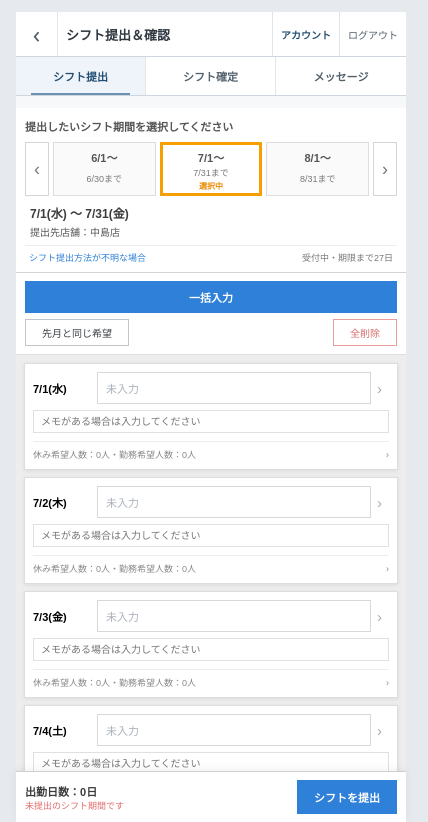
Scenario: スタッフ画面: メッセージタブから店長へ送信できる
Click the button "メッセージ". click: {"x": 341, "y": 76}
box: [276, 57, 406, 95]
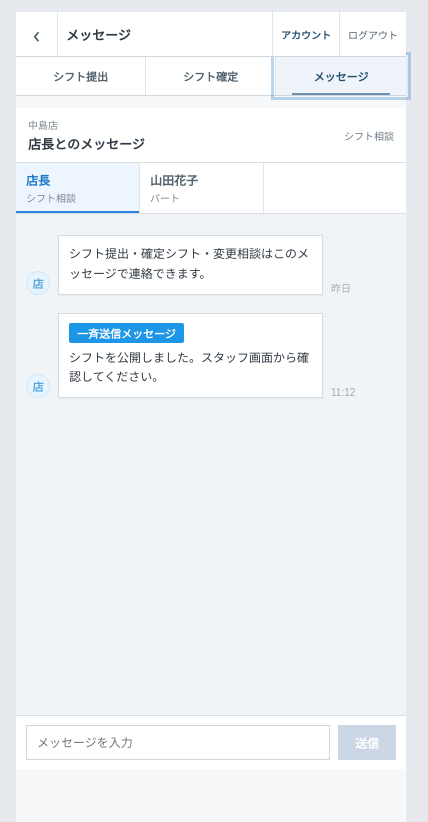
Expected: the text "店長とのメッセージ" is shown, [28, 134, 145, 153]
Type "この日、相談したいです" into the field labelled "メッセージを入力". click: {"x": 178, "y": 742}
box: [26, 725, 330, 760]
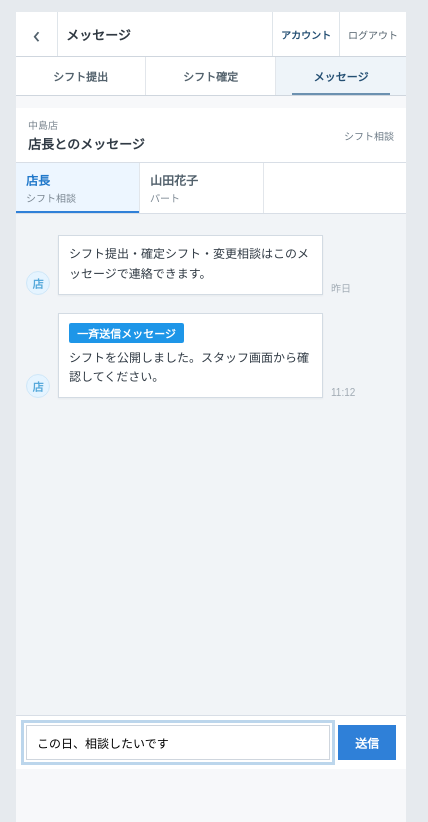
Click the button "送信". click: {"x": 367, "y": 742}
box: [338, 725, 396, 760]
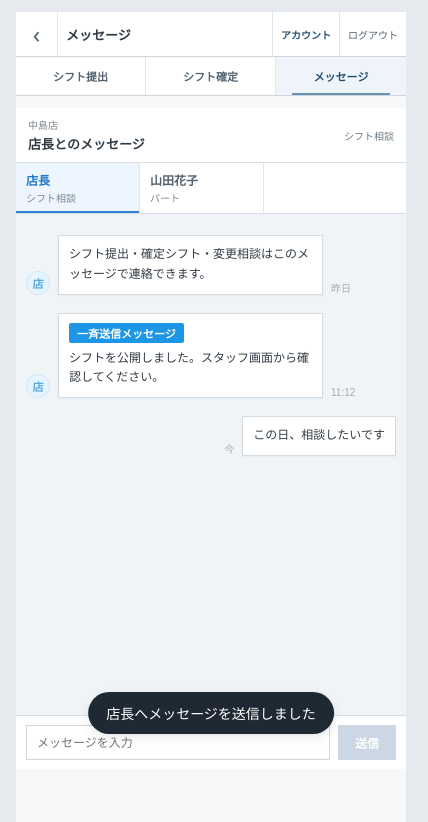
Expected: the text "この日、相談したいです" is shown, [253, 426, 385, 446]
Expected: the text "店長へメッセージを送信しました" is shown, [88, 692, 334, 734]
Click the button "山田花子 パート". click: {"x": 202, "y": 188}
box: [140, 163, 264, 213]
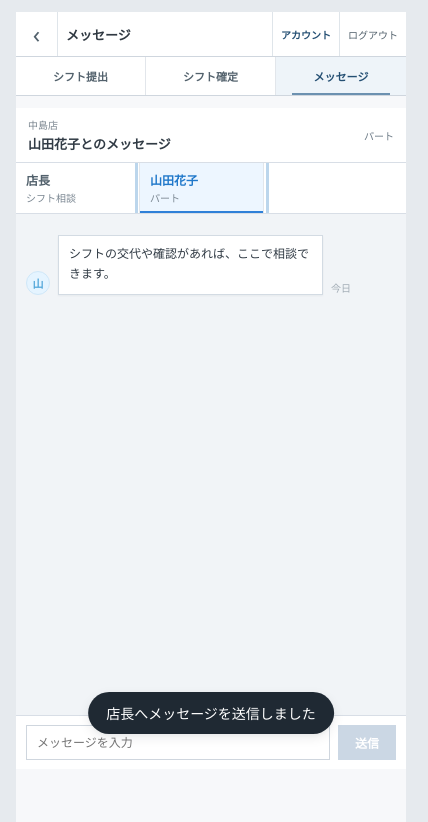
Expected: the text "山田花子とのメッセージ" is shown, [28, 134, 171, 153]
Type "交代できますか" into the field labelled "メッセージを入力". click: {"x": 178, "y": 742}
box: [26, 725, 330, 760]
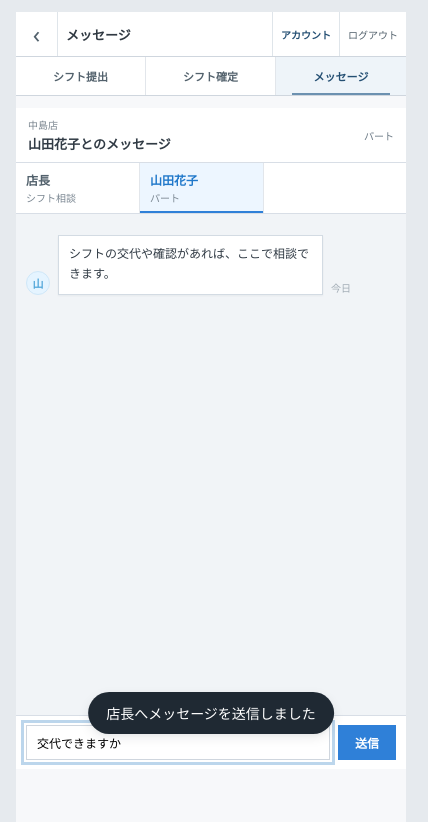
Click the button "送信". click: {"x": 367, "y": 742}
box: [338, 725, 396, 760]
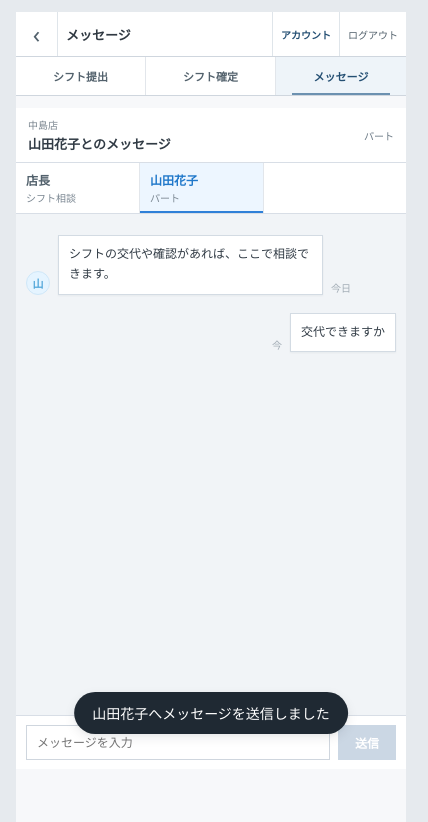
Expected: the text "交代できますか" is shown, [301, 323, 385, 342]
Expected: the text "山田花子へメッセージを送信しました" is shown, [74, 692, 348, 734]
